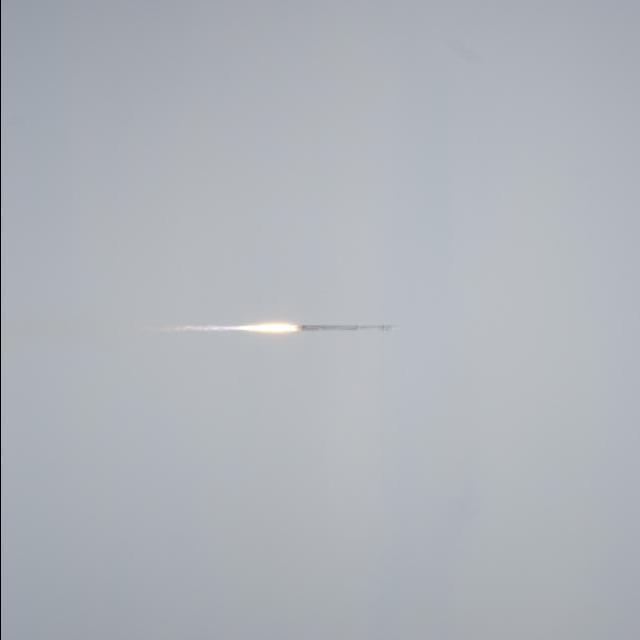Missile: (289, 323, 407, 333)
